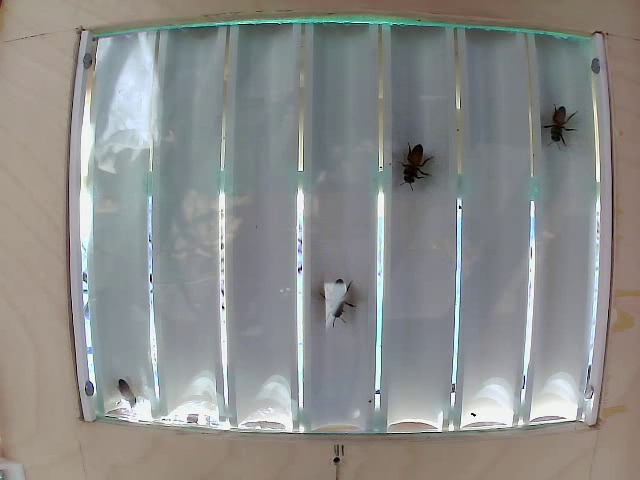bee: (393, 138, 434, 193), (537, 95, 569, 150)
